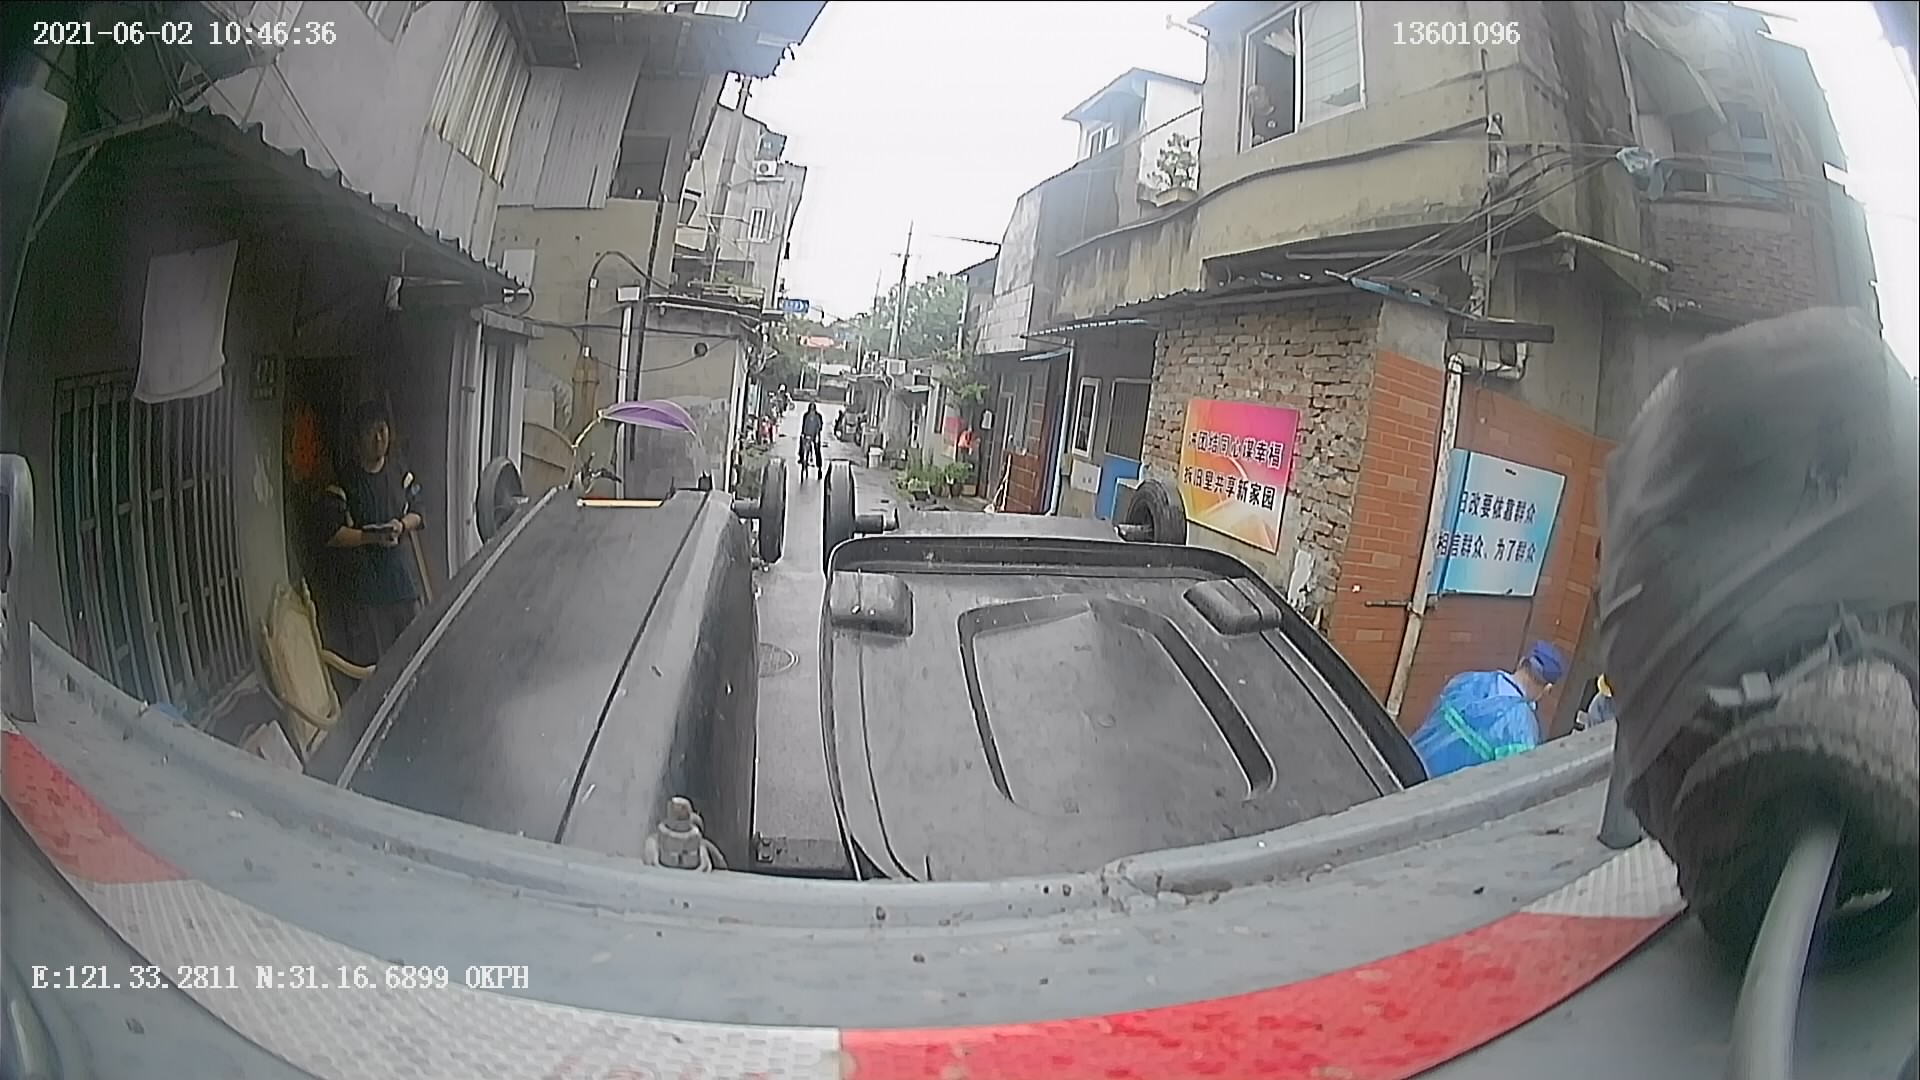Dry_garbage: (786, 458, 1266, 1031), (299, 438, 806, 945)
